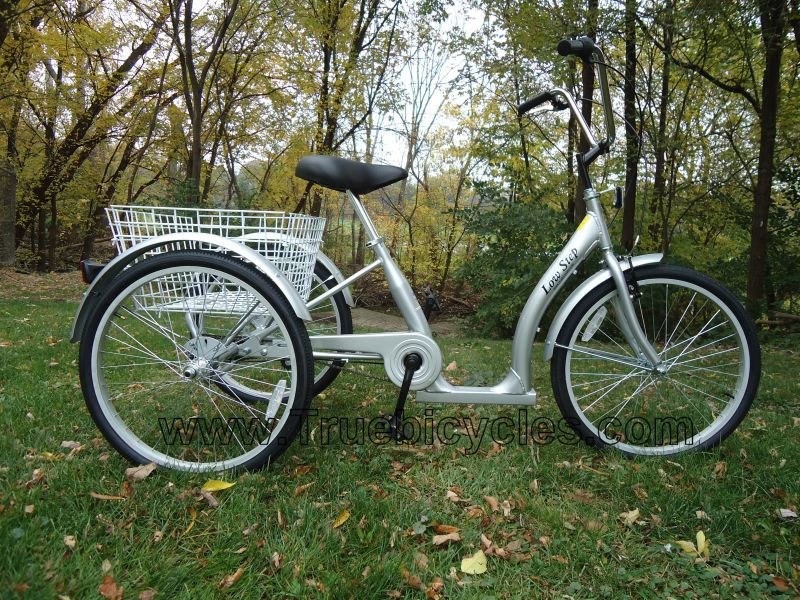handle bar: (502, 31, 649, 167)
seat: (284, 139, 421, 203)
wheel: (72, 247, 320, 477), (537, 255, 775, 465), (185, 226, 363, 405)
